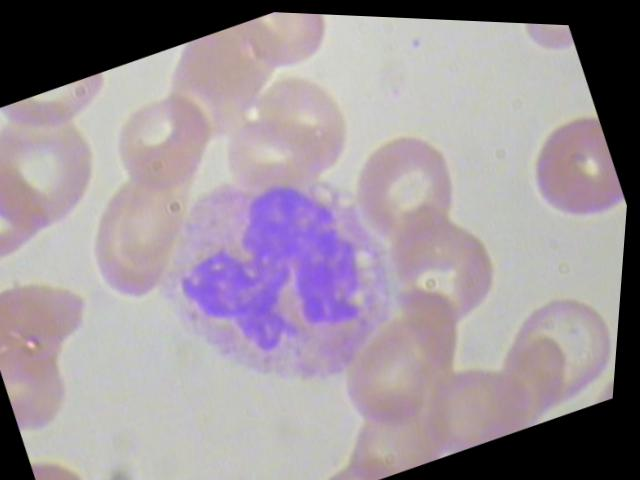Red Blood Cells: (338, 108, 487, 262), (0, 88, 129, 256), (505, 99, 634, 245)
White Blood Cells: (121, 123, 446, 440)
